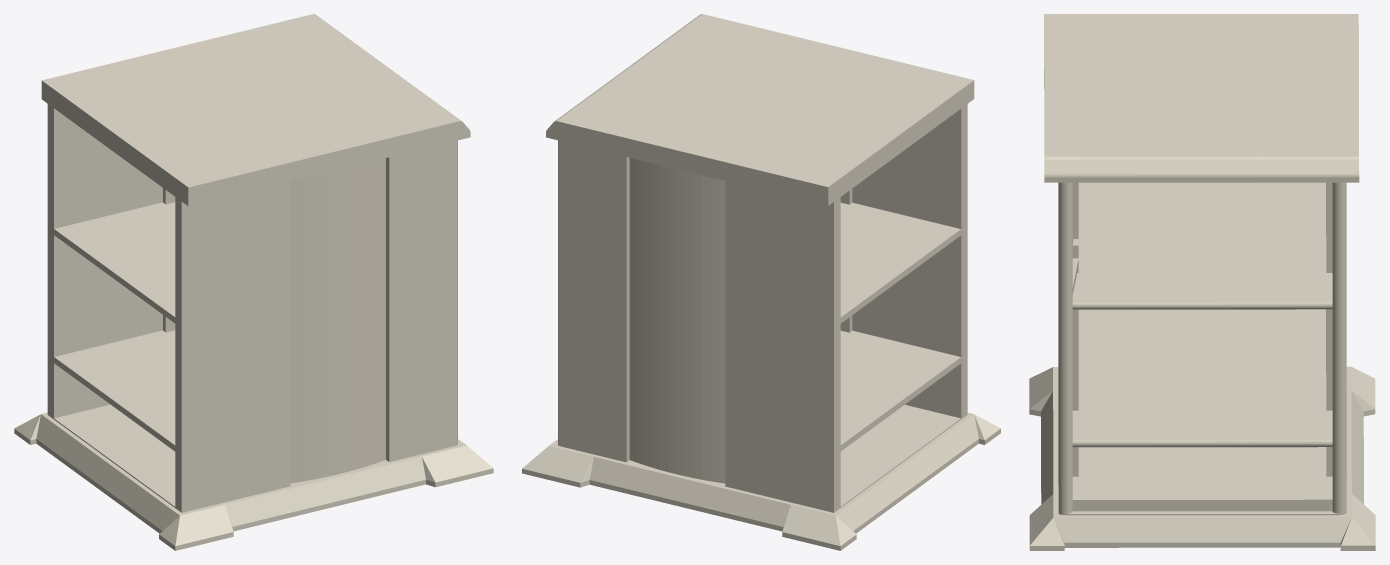
The model's file is Propo_Mesa_Estanteria_baja.fbx.
The picture shows the model from 3 angles, left to right: view 1: azimuth 30°, elevation 25°; view 2: azimuth 150°, elevation 25°; view 3: azimuth 270°, elevation 25°; orthographic projection. The views are drawn at different scales.
Parts seen in each view (by area): view 1: Propo_Mesa_Estanteria_baja; view 2: Propo_Mesa_Estanteria_baja; view 3: Propo_Mesa_Estanteria_baja.
Boxes of the visible parts, x1=… form: Propo_Mesa_Estanteria_baja: x1=14, y1=14, x2=493, y2=550; Propo_Mesa_Estanteria_baja: x1=522, y1=14, x2=1000, y2=550; Propo_Mesa_Estanteria_baja: x1=1029, y1=14, x2=1375, y2=550.
Bounding box in the file's own units: 73.56 × 77.94 × 64.36.
